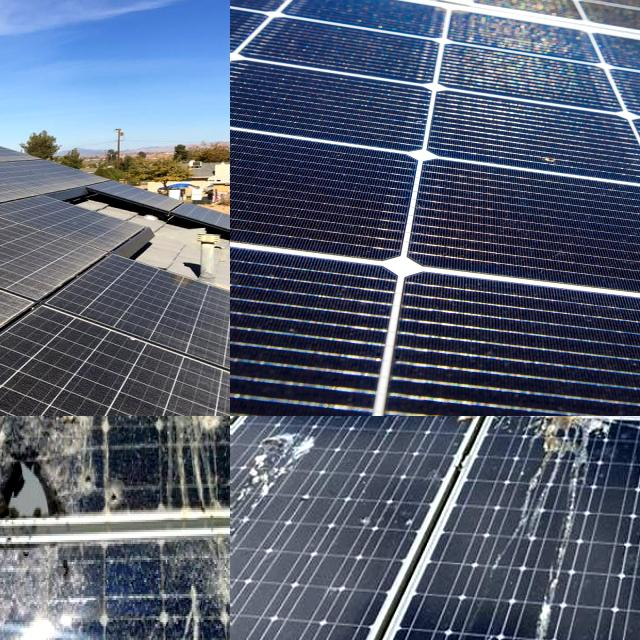bird: (230, 427, 346, 529), (525, 416, 627, 480), (439, 607, 538, 640), (436, 416, 501, 460), (323, 416, 407, 449), (514, 416, 615, 441), (591, 416, 640, 446), (452, 416, 502, 432)
crack: (230, 0, 640, 416)
dust: (0, 275, 104, 396), (0, 243, 114, 352)
hotspot: (0, 416, 85, 533), (0, 553, 90, 640), (146, 416, 229, 495), (0, 416, 44, 502), (0, 552, 35, 640), (0, 582, 40, 640)
